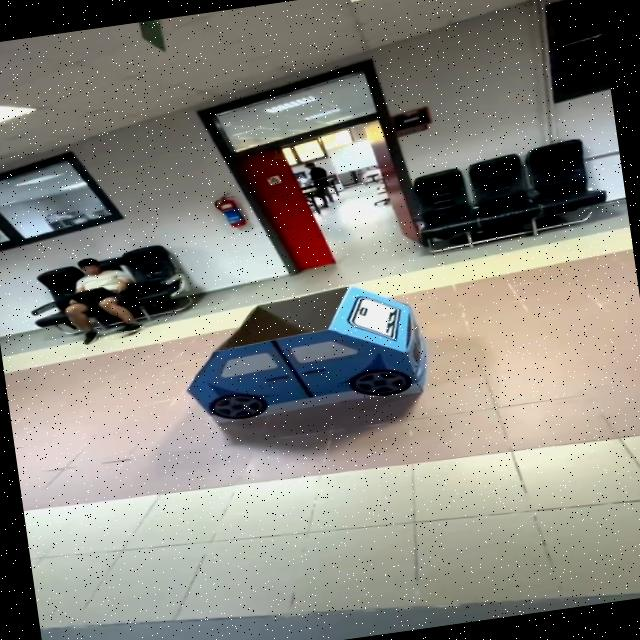blue_car: (154, 267, 461, 459)
